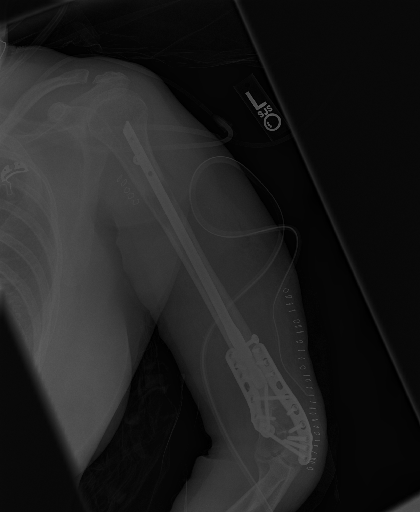implant: (223, 329, 316, 473)
